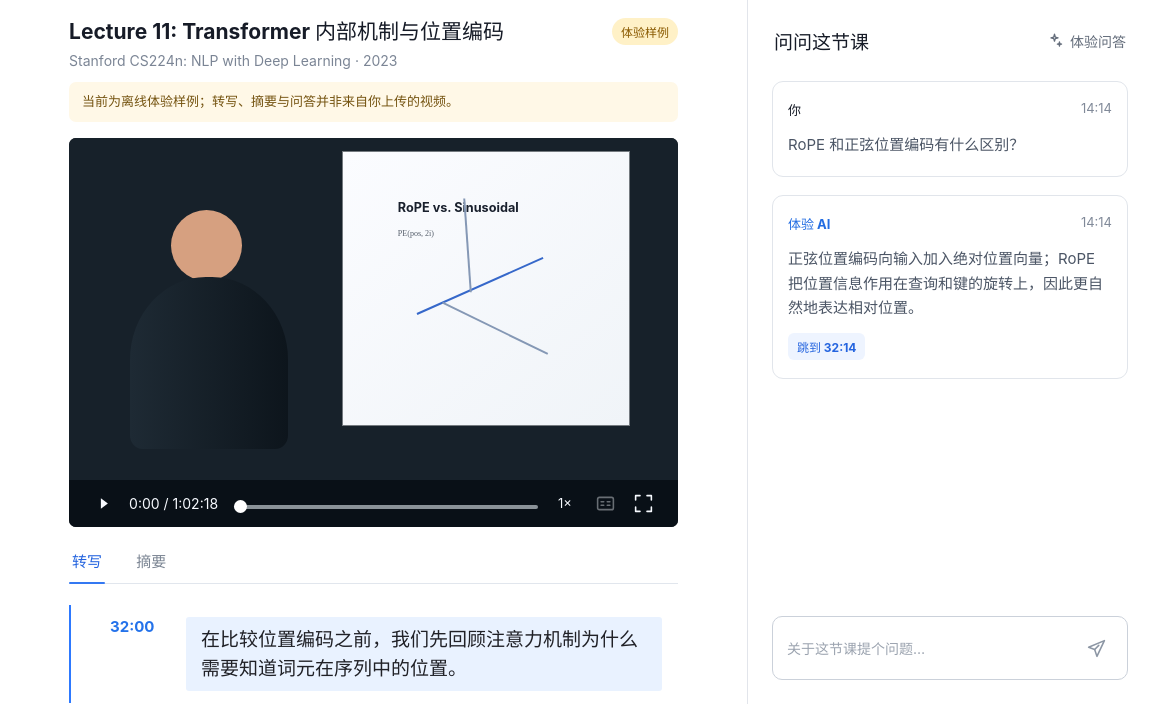
Test case: ReaderPage › opens a summary chapter in the transcript
The width and height of the screenshot is (1152, 704).
Click the tab "摘要" at {"x": 151, "y": 566}, box [133,550,169,583]
(page scrolled)
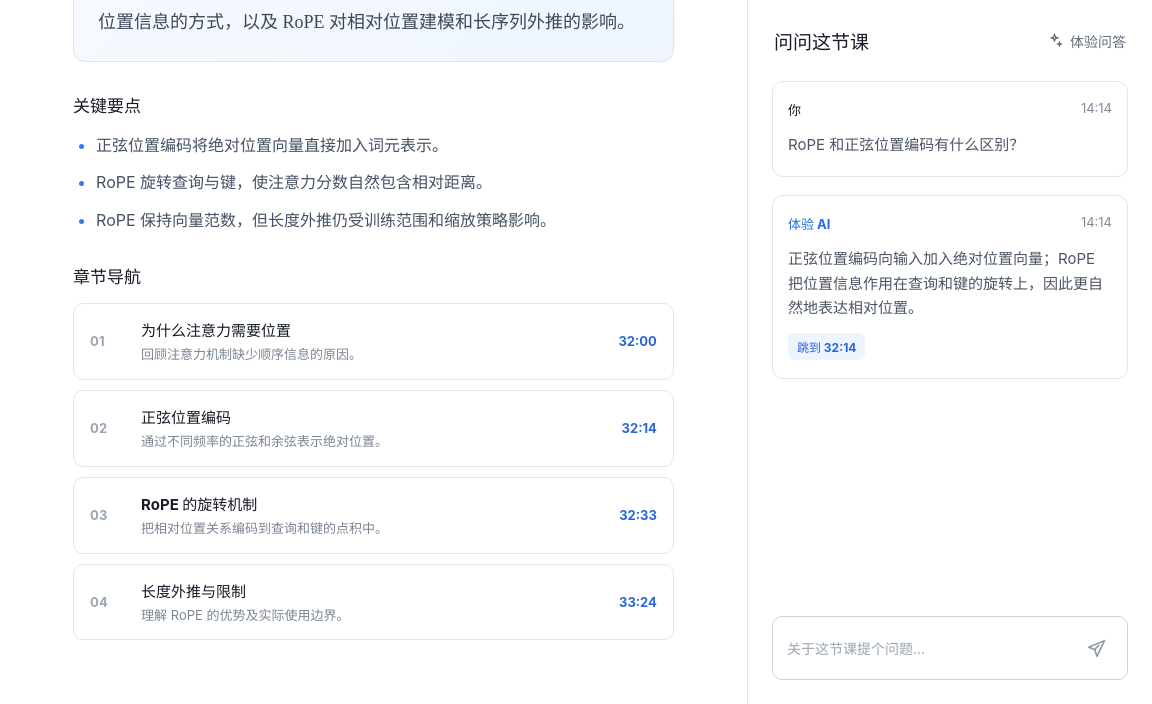
Result: the heading "关键要点" is shown at [73,96,141,116]
Click the button with aria-label "播放章节 RoPE 的旋转机制" at {"x": 199, "y": 504}, box [73,477,674,554]
(page scrolled)
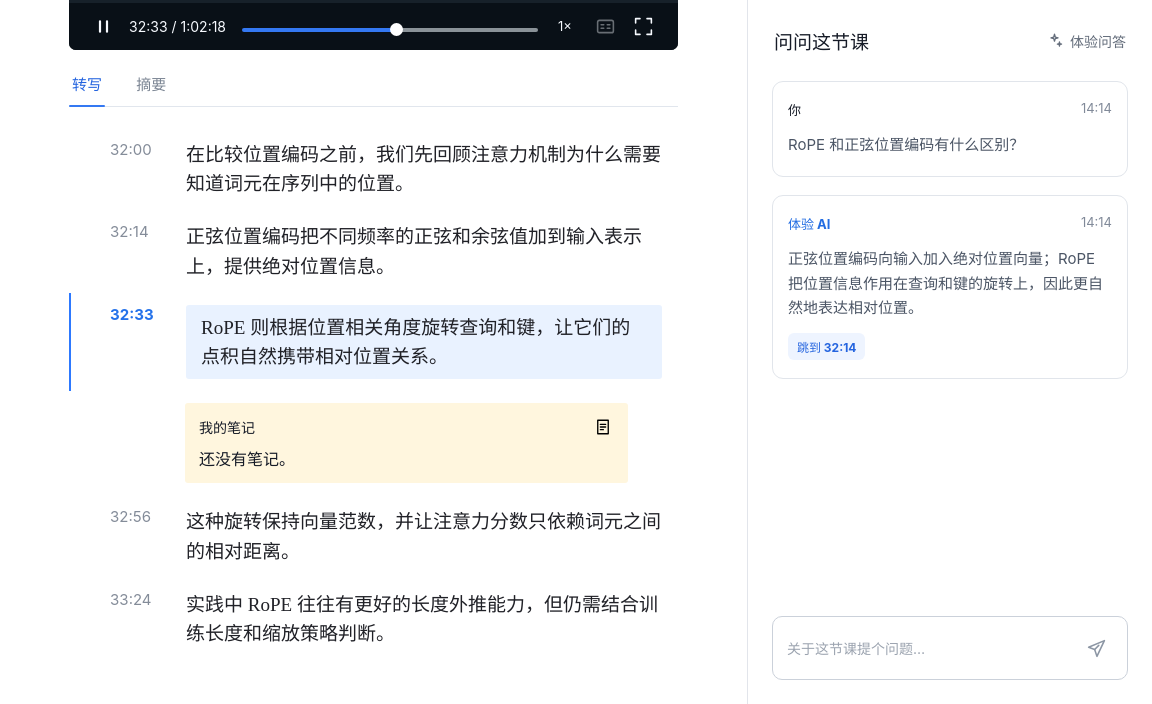
Result: the slider named "播放进度" holds "1953" at [242,28,538,32]
